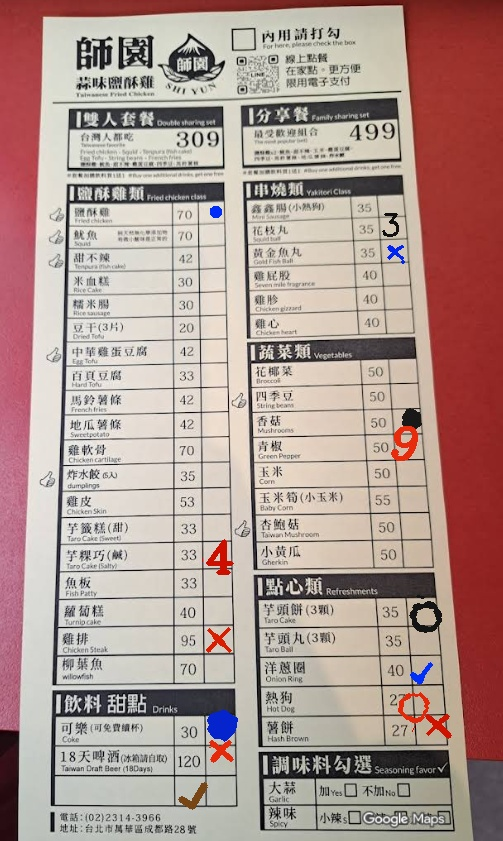marked_circle: (205, 716, 236, 744), (391, 408, 420, 431), (197, 204, 223, 223)
marked_hollow: (412, 685, 443, 713), (406, 597, 437, 625)
marked_number_3: (378, 216, 407, 238)
marked_number_4: (202, 542, 231, 565)
marked_number_9: (392, 431, 423, 459)
marked_tick: (409, 655, 440, 683), (174, 776, 205, 804)
marked_x: (203, 627, 232, 657), (206, 745, 237, 773), (414, 715, 445, 743), (379, 239, 408, 262)
